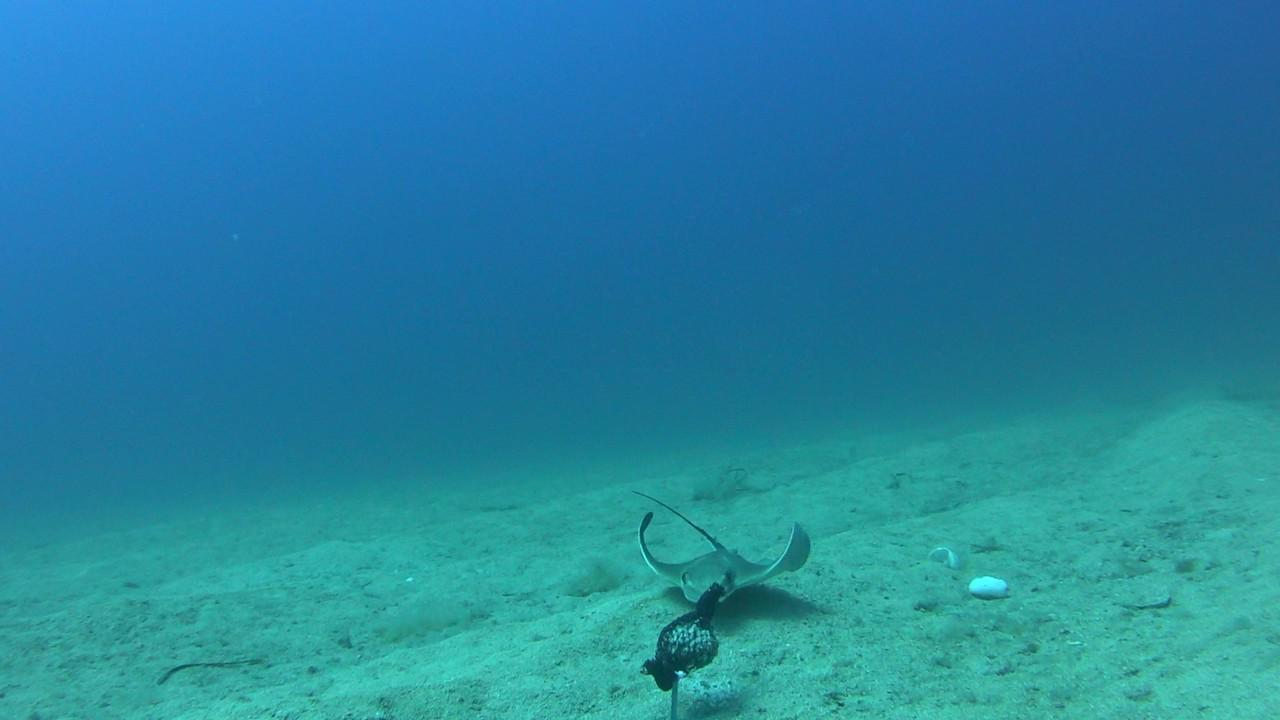myliobatis: (623, 481, 843, 607)
